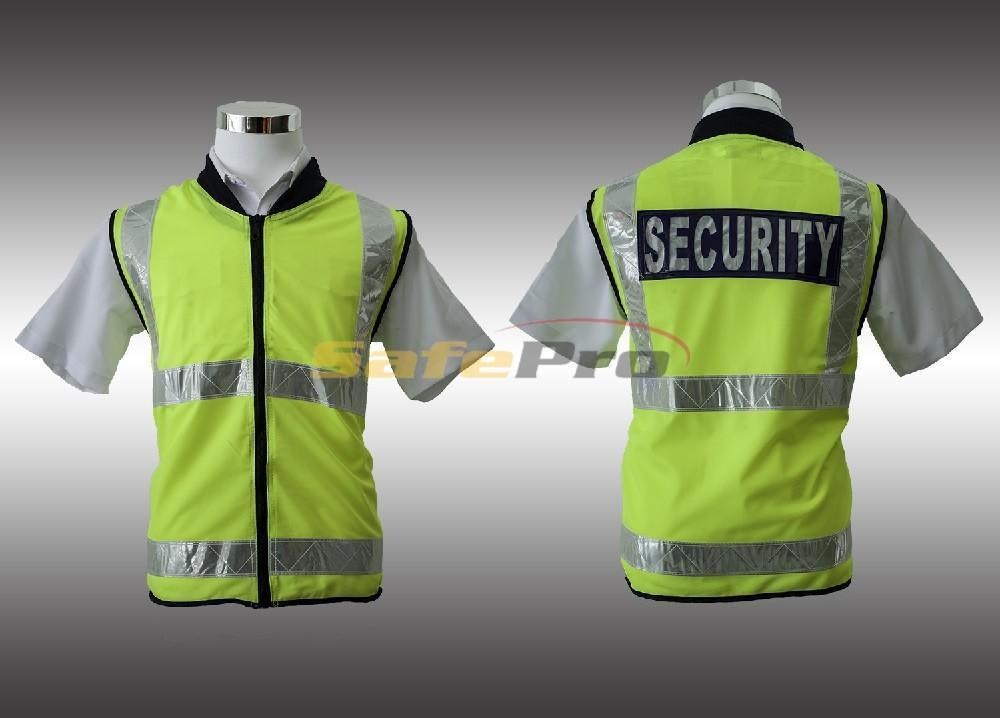Glass: (591, 130, 894, 605), (127, 168, 411, 601)
